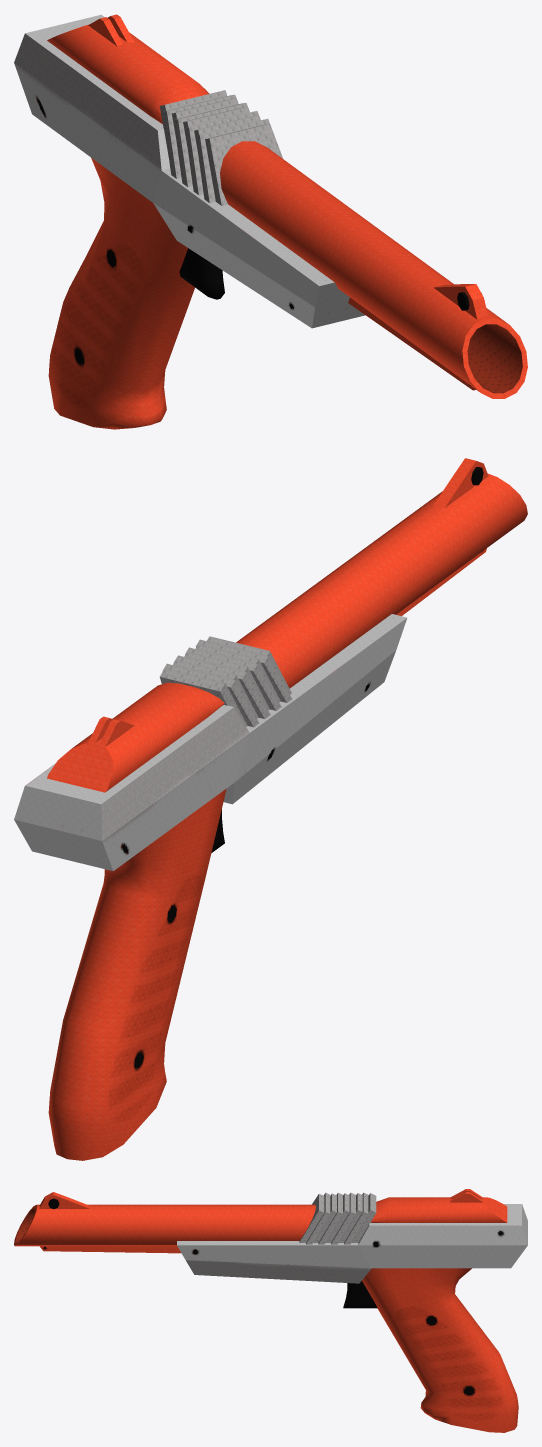
File: Zapper.fbx
3 views of the same model, one above another, from view 1: azimuth 30°, elevation 25°; view 2: azimuth 150°, elevation 25°; view 3: azimuth 270°, elevation 25° (orthographic). The views are drawn at different scales.
Visible parts, largest first — view 1: Zapper; view 2: Zapper; view 3: Zapper.
Part boxes in pixels (x1=…): Zapper: x1=14, y1=14, x2=527, y2=429; Zapper: x1=14, y1=458, x2=527, y2=1160; Zapper: x1=14, y1=1189, x2=527, y2=1432.
Size of the model in its own units: 379 by 1676 by 3327.
1 material, 1 textured.
